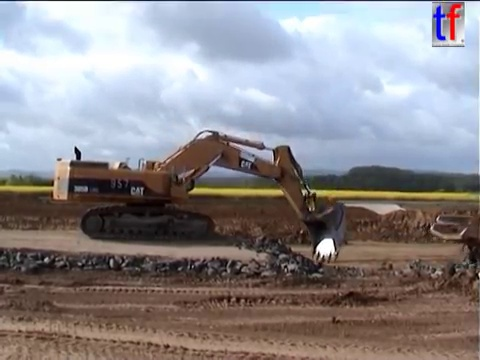excavator: (50, 126, 349, 266)
truck: (428, 211, 480, 269)
